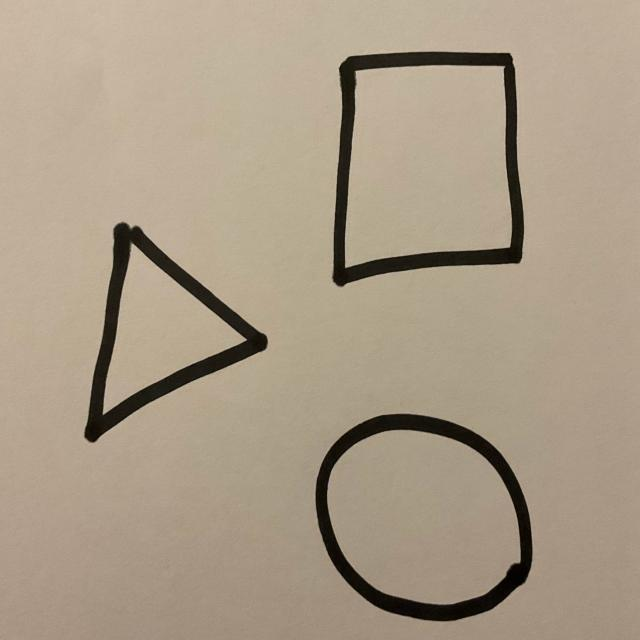Dreieck: (84, 224, 268, 445)
Kreis: (313, 415, 534, 625)
Quadrat: (331, 52, 525, 289)
